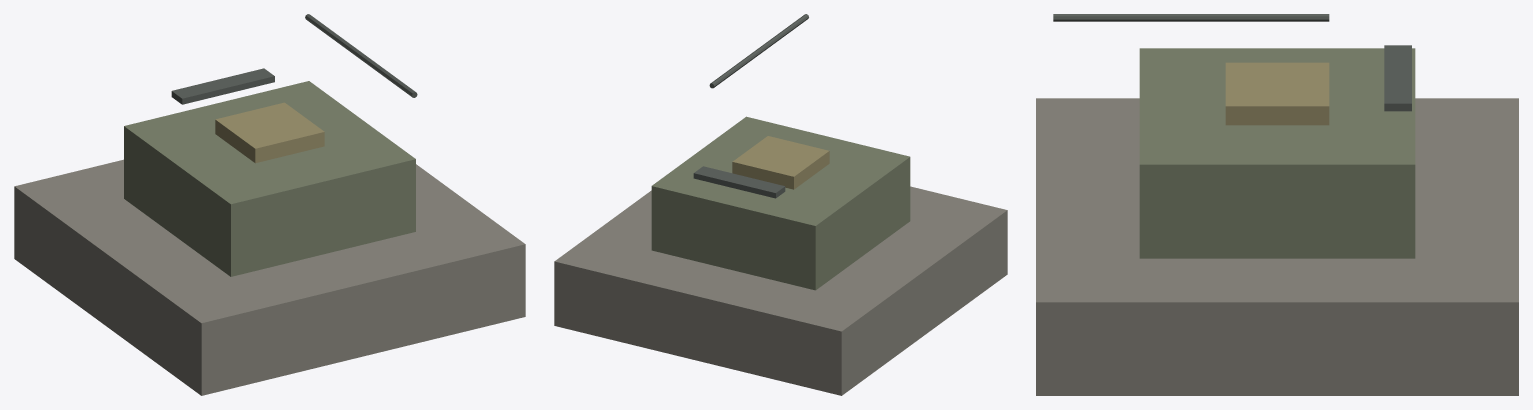
3 renders of one model, left to right at view 1: azimuth 30°, elevation 25°; view 2: azimuth 150°, elevation 25°; view 3: azimuth 270°, elevation 25°, orthographic. The views are drawn at different scales.
Visible parts, largest first — view 1: p0, p1, p2, p4, p3; view 2: p0, p1, p2, p4, p3; view 3: p0, p1, p2, p3, p4.
Part boxes in pixels (<box>): p0: <box>14,159,525,395</box>; p1: <box>124,81,415,276</box>; p2: <box>215,102,324,163</box>; p4: <box>171,68,274,104</box>; p3: <box>305,14,417,97</box>; p0: <box>554,186,1007,395</box>; p1: <box>651,116,910,290</box>; p2: <box>732,136,829,189</box>; p4: <box>693,166,785,198</box>; p3: <box>709,14,808,88</box>; p0: <box>1036,98,1518,395</box>; p1: <box>1139,48,1415,258</box>; p2: <box>1225,62,1329,125</box>; p3: <box>1053,14,1329,21</box>; p4: <box>1384,45,1411,111</box>.
Size of the model in its own units: 14 by 10.12 by 14.
